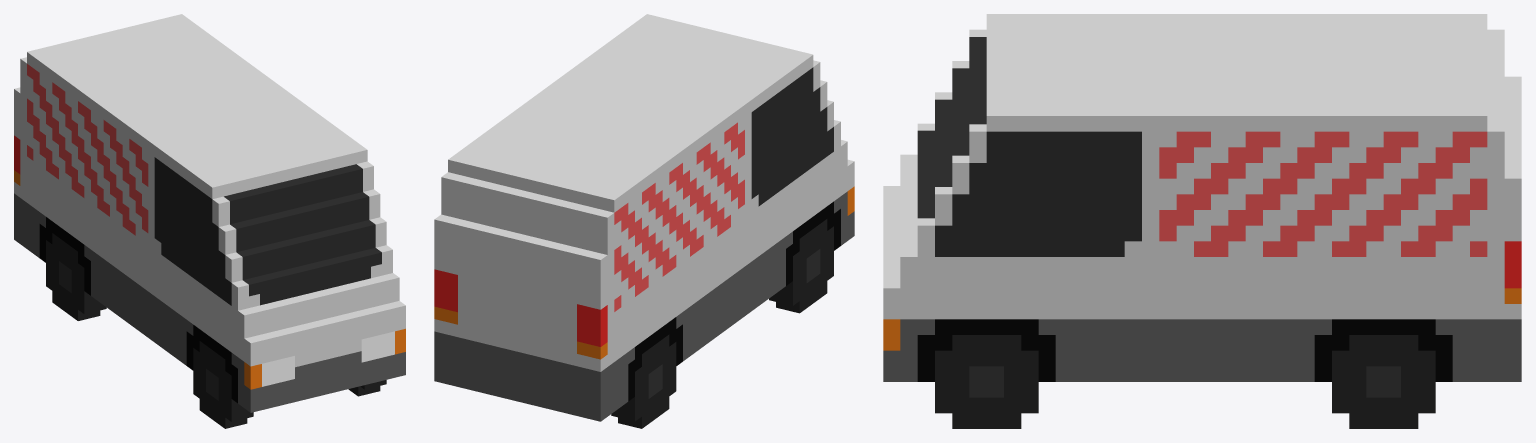
File: kit-voxel-vans-van-style2-white-red.glb
3 renders of one model, left to right at view 1: azimuth 30°, elevation 25°; view 2: azimuth 150°, elevation 25°; view 3: azimuth 270°, elevation 25°, orthographic. The views are drawn at different scales.
Parts seen in each view (by area): view 1: geometry_1; view 2: geometry_1; view 3: geometry_1.
Part boxes in pixels (bbox=[...]): geometry_1: bbox=[14, 14, 405, 428]; geometry_1: bbox=[434, 14, 854, 428]; geometry_1: bbox=[883, 14, 1521, 428].
Bounding box in the file's own units: 1.4 × 2 × 3.7.
Materials: 1 (1 with a texture image).
